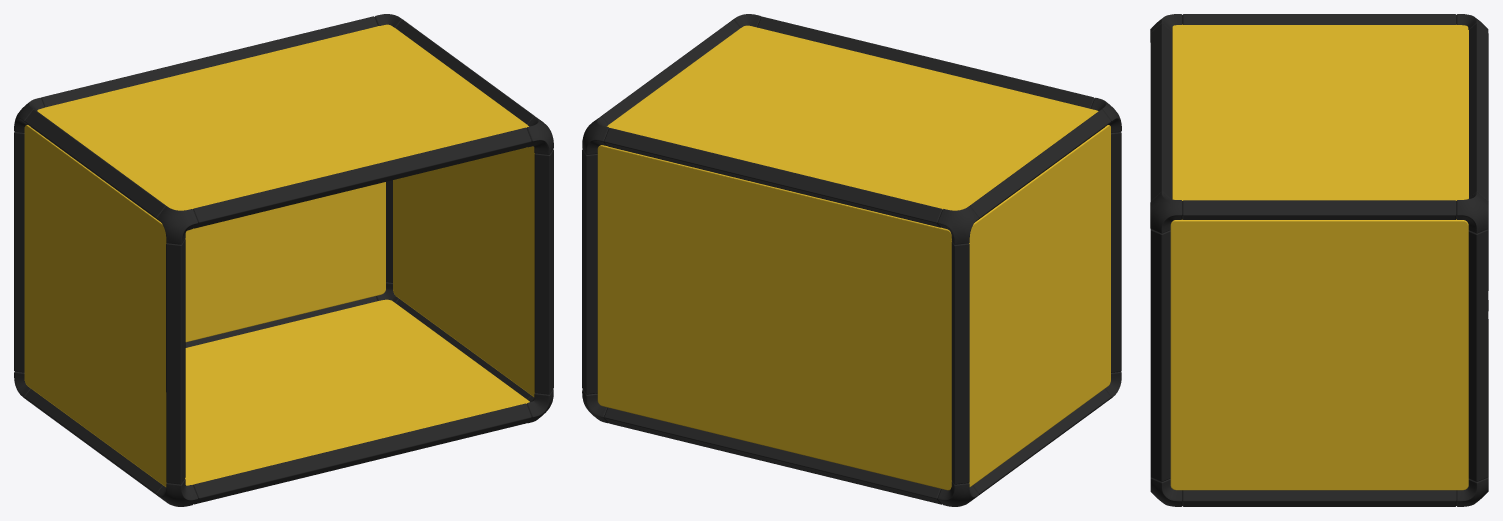
3 renders of one model, left to right at view 1: azimuth 30°, elevation 25°; view 2: azimuth 150°, elevation 25°; view 3: azimuth 270°, elevation 25°, orthographic. The views are drawn at different scales.
Visible parts, largest first — view 1: 479x329x329; view 2: 479x329x329; view 3: 479x329x329.
Boxes of the visible parts, x1,y1,x2,y2 form: 479x329x329: [14, 14, 553, 506]; 479x329x329: [582, 14, 1121, 506]; 479x329x329: [1150, 14, 1488, 506].
Bounding box in the file's own units: 0.5567 × 0.4066 × 0.4063.
